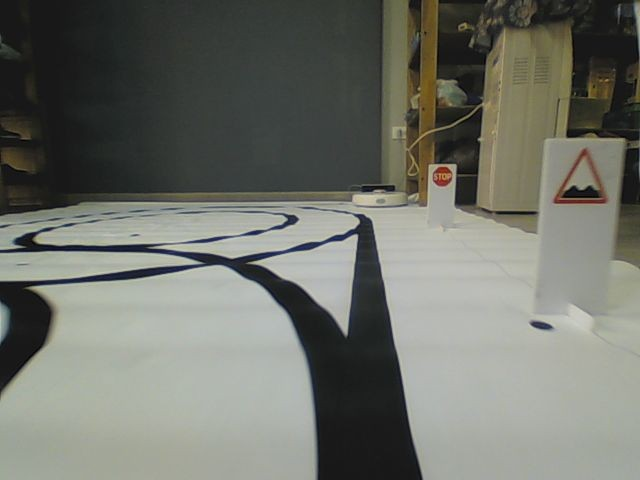Stop: (432, 165, 454, 186)
